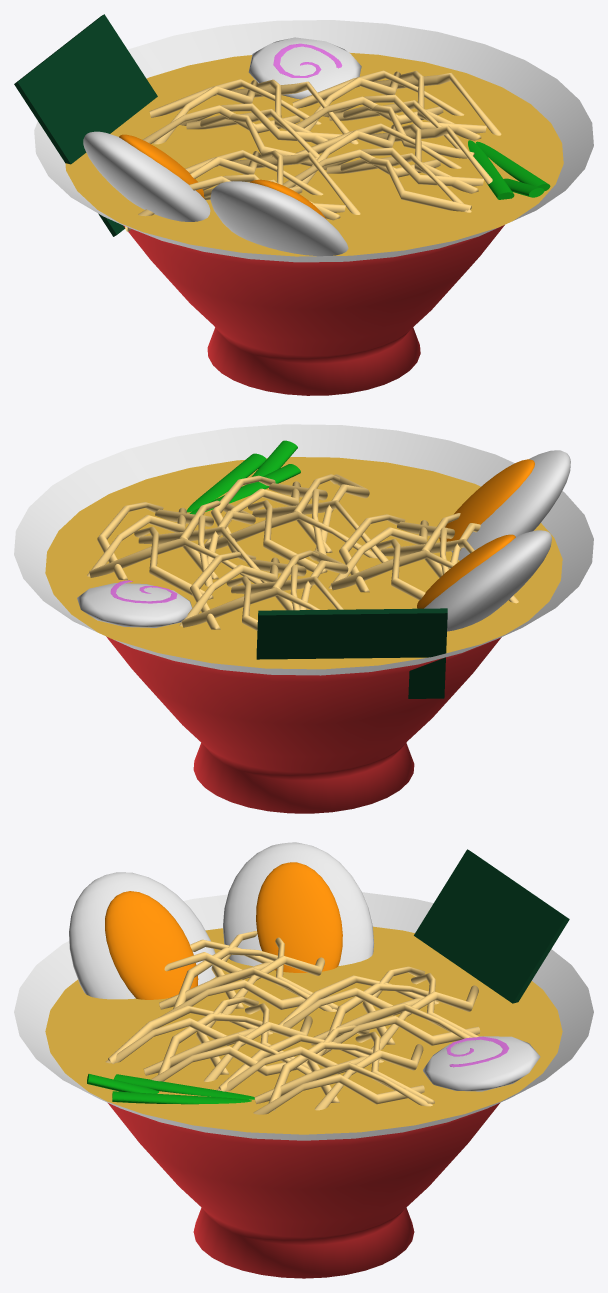
File: RamenBowl.fbx
The picture shows the model from 3 angles, top to bottom: view 1: azimuth 30°, elevation 25°; view 2: azimuth 150°, elevation 25°; view 3: azimuth 270°, elevation 25°; orthographic projection. The views are drawn at different scales.
Visible parts, largest first — view 1: Broth, Bowl, Bowl Rim, Noodles, Nori, Naruto, Egg, Egg 2, Icosphere, Scallions, Yolk2, Swirl; view 2: Broth, Bowl, Bowl Rim, Noodles, Nori, Naruto, Egg 2, Egg, Icosphere, Scallions, Yolk, Yolk2; view 3: Broth, Bowl, Noodles, Bowl Rim, Nori, Naruto, Egg 2, Yolk2, Egg, Yolk, Icosphere, Scallions (+1 smaller).
Boxes of the visible parts, left/top/right/bottom form: Broth: left=65, top=52, right=563, bottom=256; Bowl: left=123, top=225, right=504, bottom=395; Bowl Rim: left=34, top=20, right=593, bottom=262; Noodles: left=125, top=79, right=492, bottom=231; Nori: left=14, top=14, right=157, bottom=236; Naruto: left=286, top=70, right=501, bottom=159; Egg: left=210, top=181, right=348, bottom=256; Egg 2: left=83, top=131, right=210, bottom=221; Icosphere: left=248, top=37, right=361, bottom=99; Scallions: left=468, top=140, right=550, bottom=199; Yolk2: left=119, top=134, right=204, bottom=198; Swirl: left=273, top=43, right=342, bottom=77; Broth: left=45, top=457, right=562, bottom=669; Bowl: left=106, top=636, right=501, bottom=813; Bowl Rim: left=14, top=424, right=593, bottom=675; Noodles: left=179, top=474, right=518, bottom=630; Nori: left=256, top=608, right=447, bottom=698; Naruto: left=87, top=500, right=266, bottom=599; Egg 2: left=424, top=530, right=551, bottom=631; Egg: left=451, top=450, right=570, bottom=560; Icosphere: left=77, top=583, right=192, bottom=627; Scallions: left=187, top=440, right=300, bottom=514; Yolk: left=439, top=459, right=534, bottom=541; Yolk2: left=417, top=534, right=515, bottom=608; Broth: left=45, top=926, right=562, bottom=1134; Bowl: left=108, top=1103, right=499, bottom=1278; Noodles: left=105, top=931, right=480, bottom=1081; Bowl Rim: left=14, top=892, right=593, bottom=1140; Nori: left=414, top=849, right=569, bottom=1003; Naruto: left=216, top=1025, right=434, bottom=1114; Egg 2: left=223, top=842, right=374, bottom=966; Yolk2: left=256, top=862, right=342, bottom=972; Egg: left=69, top=872, right=215, bottom=999; Yolk: left=105, top=891, right=198, bottom=999; Icosphere: left=423, top=1036, right=540, bottom=1091; Scallions: left=87, top=1074, right=254, bottom=1104.
Bounding box in the file's own units: 514 × 272 × 514.
